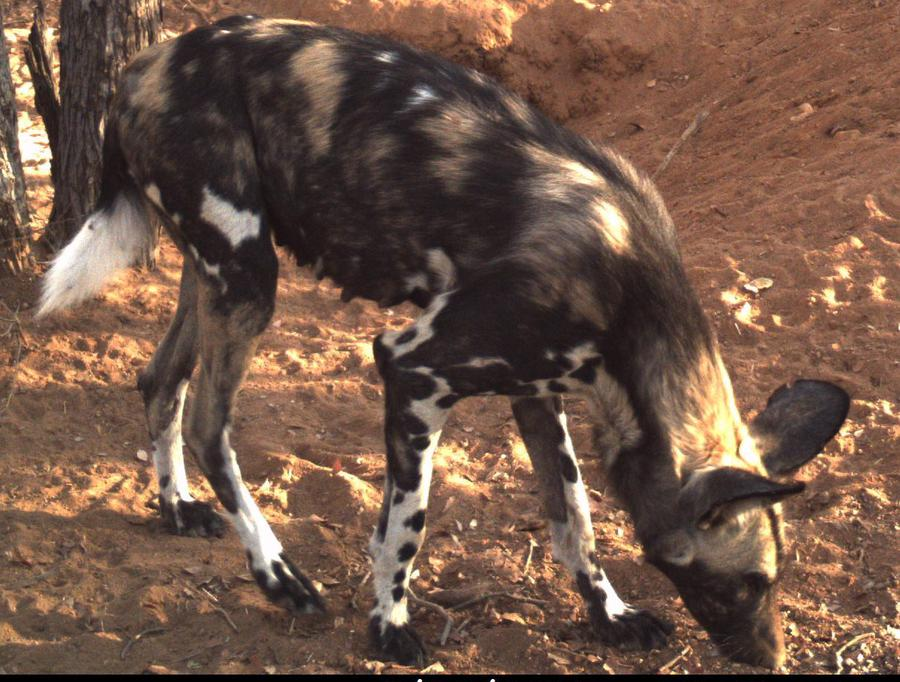wilddog: (1, 1, 900, 682)
